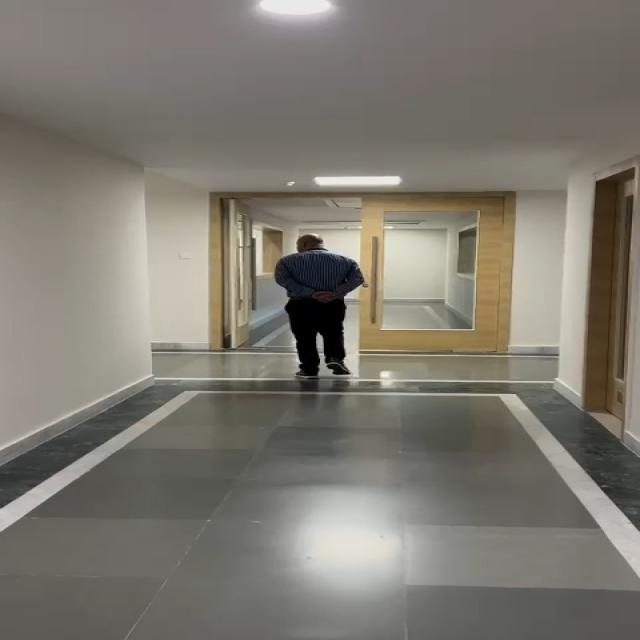door: (584, 178, 640, 416)
floor: (0, 456, 640, 640), (377, 352, 560, 451), (155, 348, 268, 458)
moving_object: (259, 222, 375, 410)
wall: (0, 116, 136, 390)
